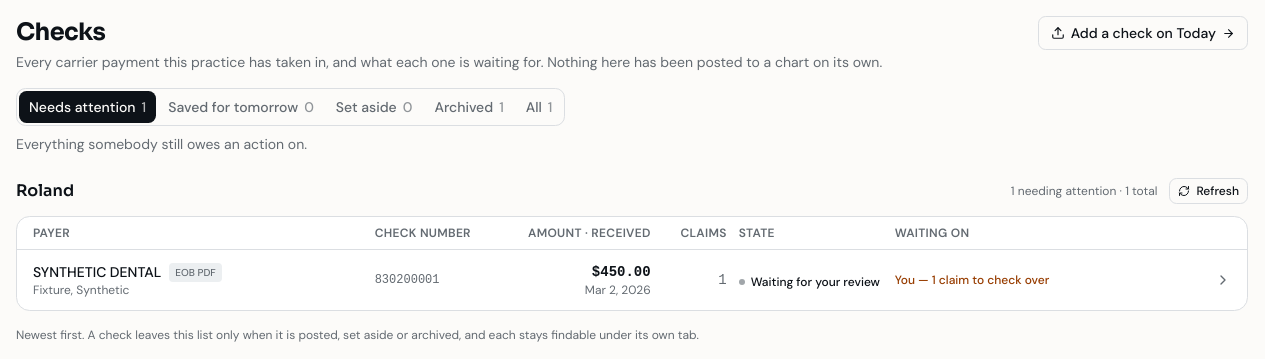
archive a check that never went anywhere › the Archived tab holds the archived checks, counted, and other tabs do not
Check: the element with test id "remittances-roland" is shown, box 16,178 -> 1248,311
Check: the link with test id "remittance-row-b-1" is shown, box 33,262 -> 1231,298
What coordinates should you click on to do the following:
click the tab with test id "remittance-filter-archived"
I would click on:
 (469, 107)
Its box is 424,91 -> 514,123.
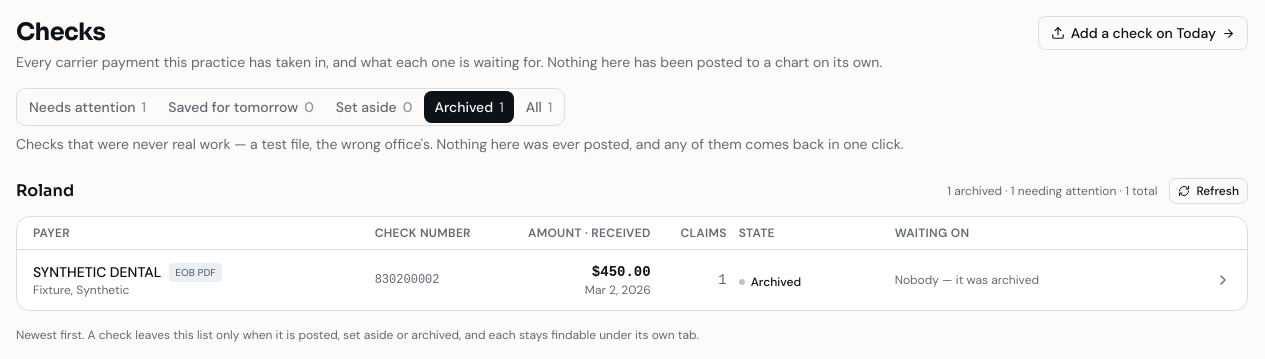
Check: the link with test id "remittance-row-b-2" shows "Archived", box 33,262 -> 1231,298
Check: the link with test id "remittance-row-b-1" is gone
